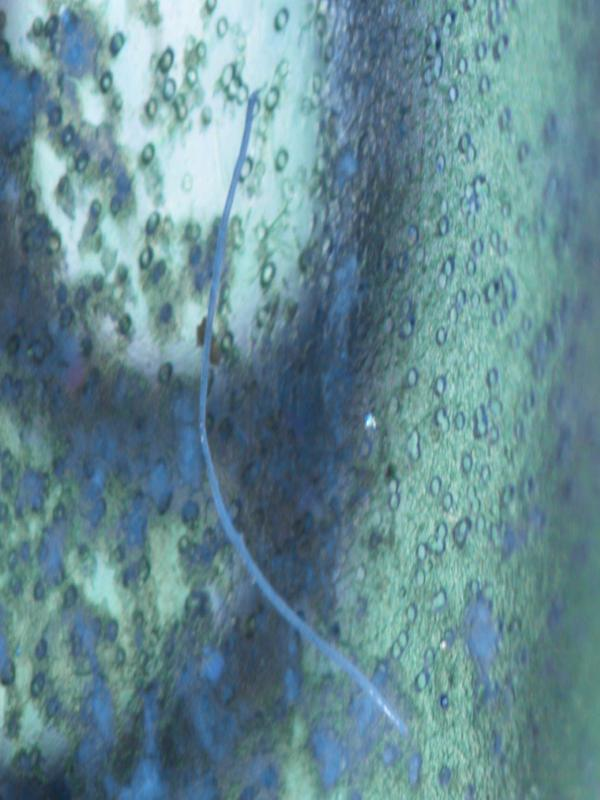microplastic: (2, 1, 597, 797), (196, 82, 410, 739)
